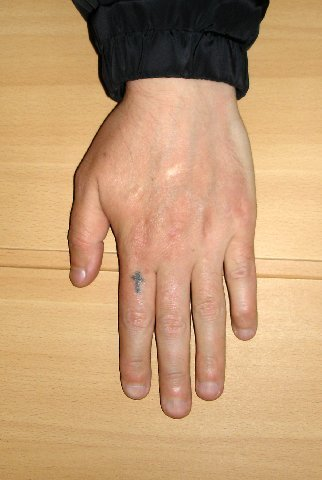tatu9_krest: (127, 271, 147, 299)
